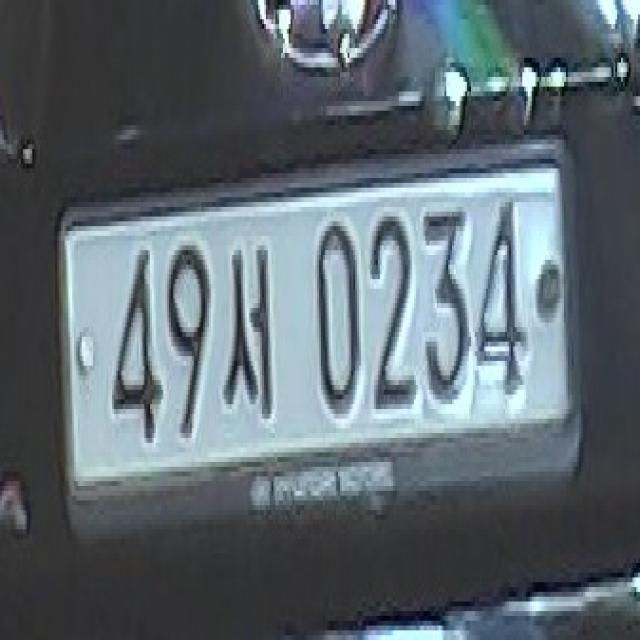0: (312, 218, 364, 422)
2: (368, 184, 416, 422)
3: (424, 191, 472, 408)
4: (476, 191, 532, 415), (109, 225, 163, 455)
9: (168, 223, 215, 459)
license_plate: (48, 174, 584, 486)
seo: (222, 223, 284, 440)
